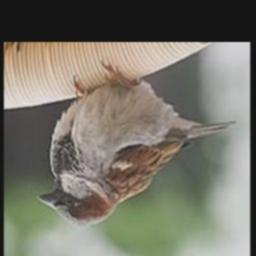Sparrow: (37, 62, 236, 228)
